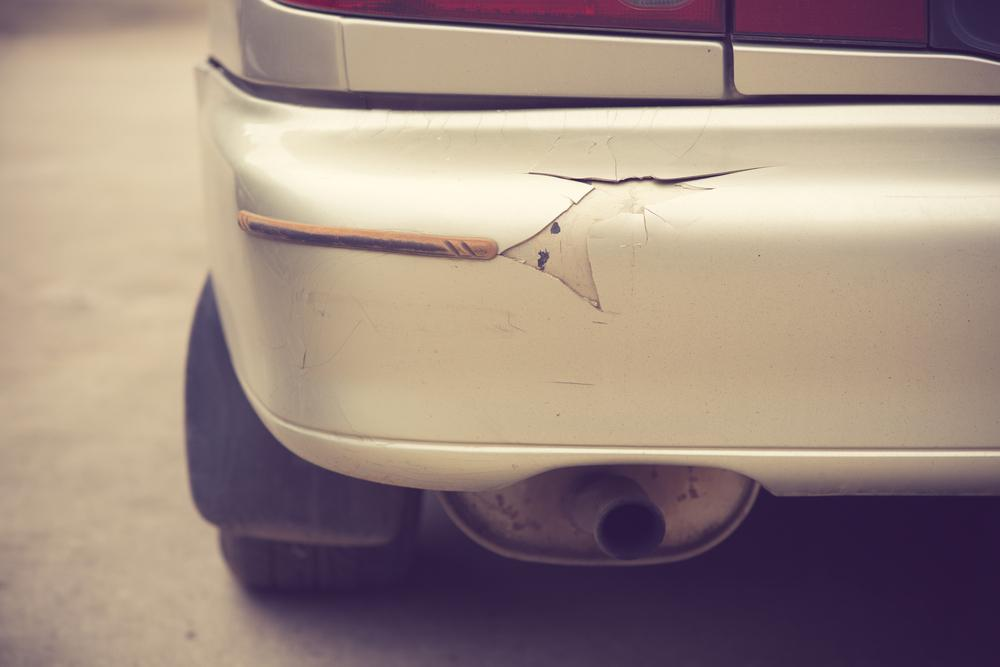crack: (496, 163, 783, 315)
